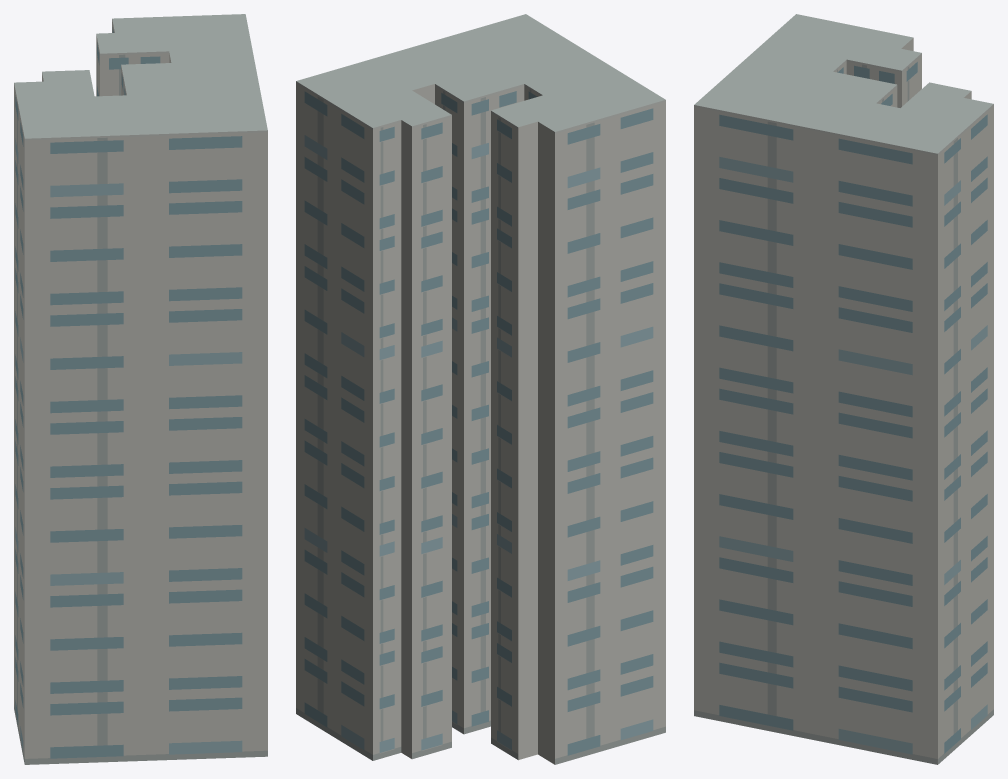
Rendered from residential-9d669d9a-4471-4692-ba71-eb723712dbfa.glb.
3 views of the same model, side by side, from view 1: azimuth 30°, elevation 25°; view 2: azimuth 150°, elevation 25°; view 3: azimuth 270°, elevation 25° (orthographic). The views are drawn at different scales.
Visible parts, largest first — view 1: residential-9d669d9a-4471-4692-ba71-eb723712dbfa.tmp; view 2: residential-9d669d9a-4471-4692-ba71-eb723712dbfa.tmp; view 3: residential-9d669d9a-4471-4692-ba71-eb723712dbfa.tmp.
Part boxes in pixels (x1,y1,x2,y2): residential-9d669d9a-4471-4692-ba71-eb723712dbfa.tmp: (14, 14, 267, 764); residential-9d669d9a-4471-4692-ba71-eb723712dbfa.tmp: (296, 14, 665, 764); residential-9d669d9a-4471-4692-ba71-eb723712dbfa.tmp: (694, 14, 993, 764).
Size of the model in its own units: 39.73 by 81 by 36.02.
